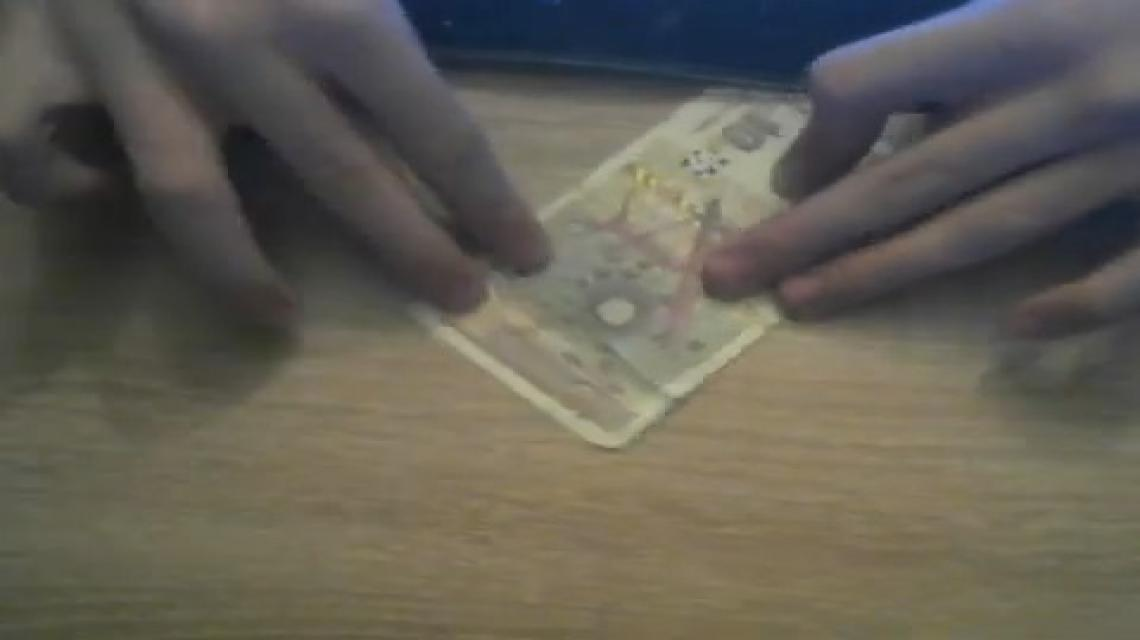10leva: (411, 87, 808, 452)
